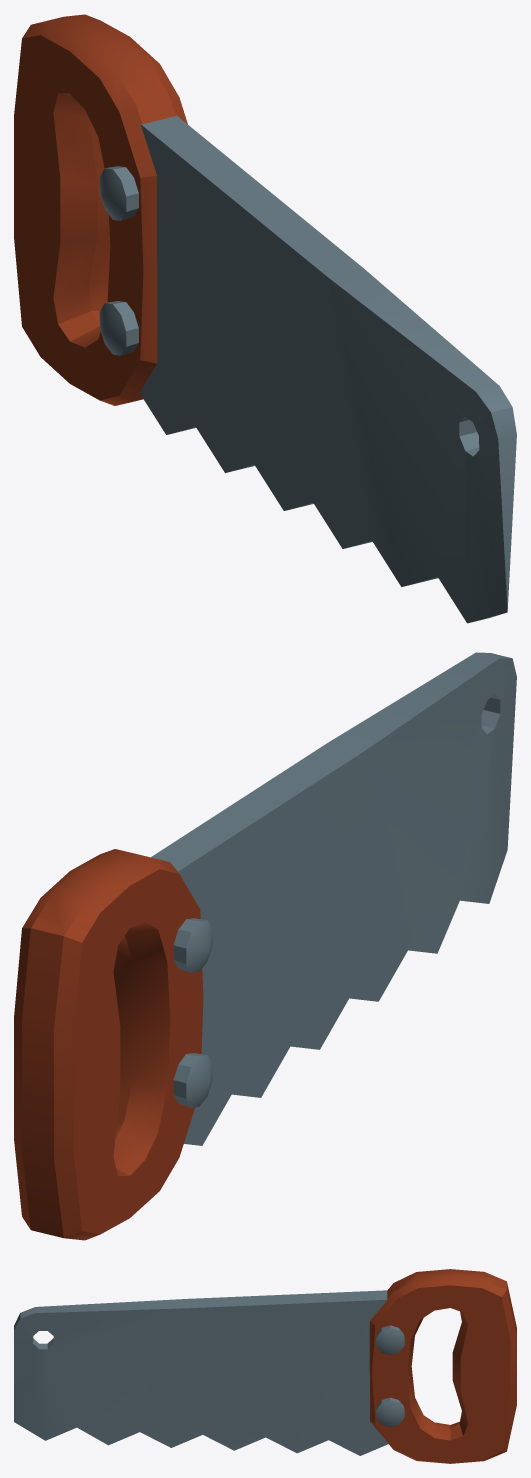
The model's file is handsaw.obj.
3 views of the same model, one above another, from view 1: azimuth 30°, elevation 25°; view 2: azimuth 150°, elevation 25°; view 3: azimuth 270°, elevation 25° (orthographic). The views are drawn at different scales.
Parts seen in each view (by area): view 1: handsaw_Cube.256; view 2: handsaw_Cube.256; view 3: handsaw_Cube.256.
Boxes of the visible parts, x1,y1,x2,y2 form: handsaw_Cube.256: [14, 14, 516, 623]; handsaw_Cube.256: [14, 652, 516, 1240]; handsaw_Cube.256: [14, 1269, 516, 1463].
Size of the model in its own units: 0.1184 by 0.37 by 0.9068.
